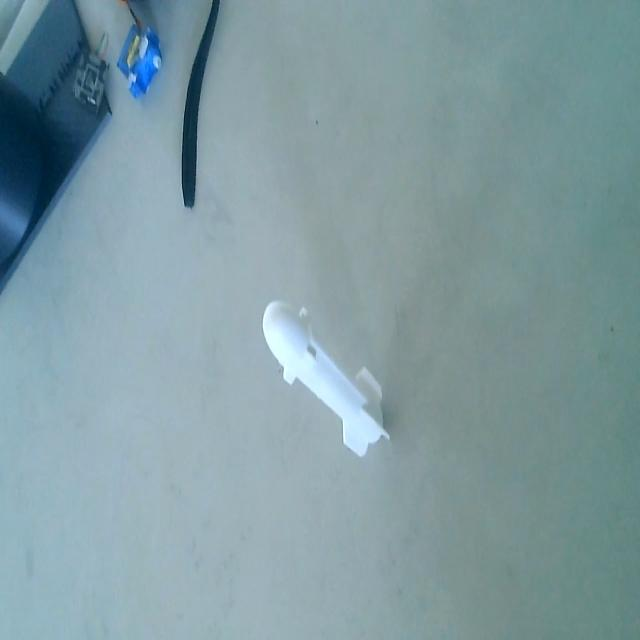Rocket: (260, 291, 392, 472)
